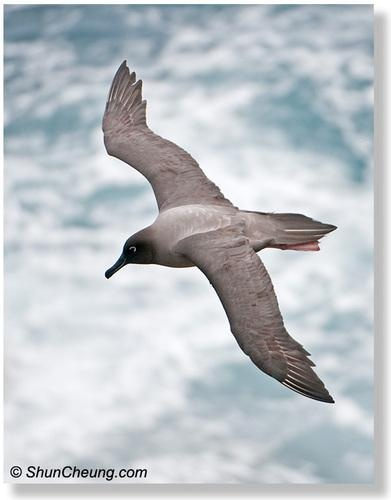bird: (99, 62, 335, 405)
